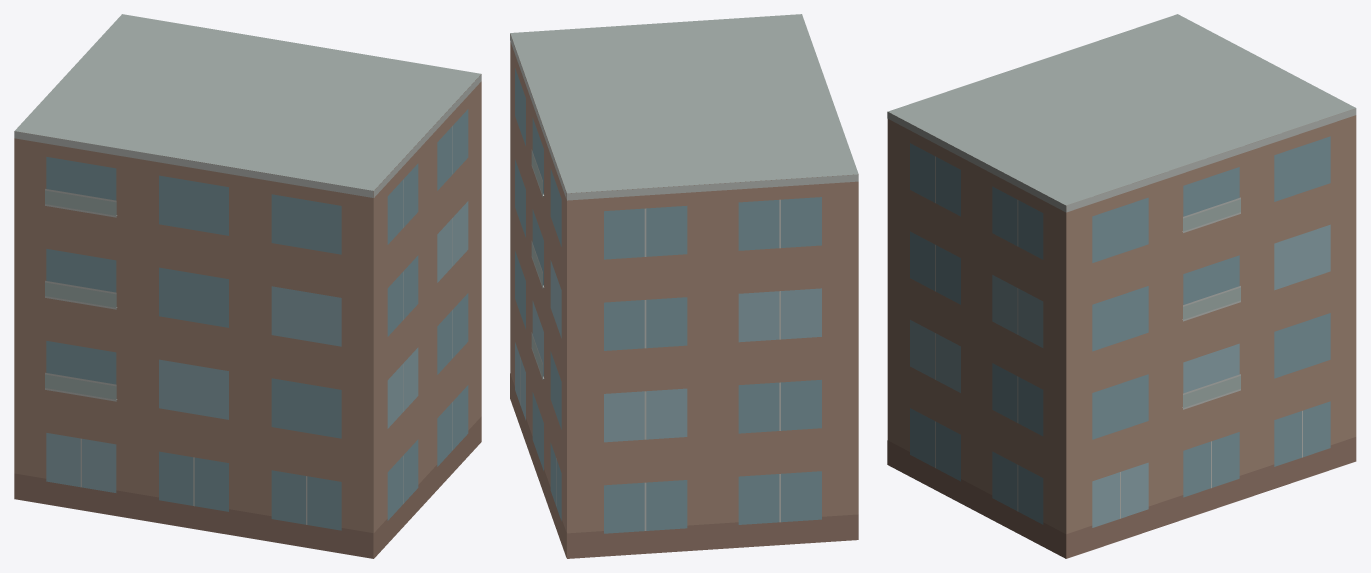
Rendered from survey-upis-32657131.glb.
3 views of the same model, side by side, from view 1: azimuth 30°, elevation 25°; view 2: azimuth 150°, elevation 25°; view 3: azimuth 270°, elevation 25° (orthographic). The views are drawn at different scales.
Parts seen in each view (by area): view 1: survey-upis-32657131.tmp; view 2: survey-upis-32657131.tmp; view 3: survey-upis-32657131.tmp.
Boxes of the visible parts, <box> form: survey-upis-32657131.tmp: <box>14,14,481,558</box>; survey-upis-32657131.tmp: <box>510,14,858,558</box>; survey-upis-32657131.tmp: <box>887,14,1356,558</box>.
Bounding box in the file's own units: 14.43 × 12.4 × 14.92.
